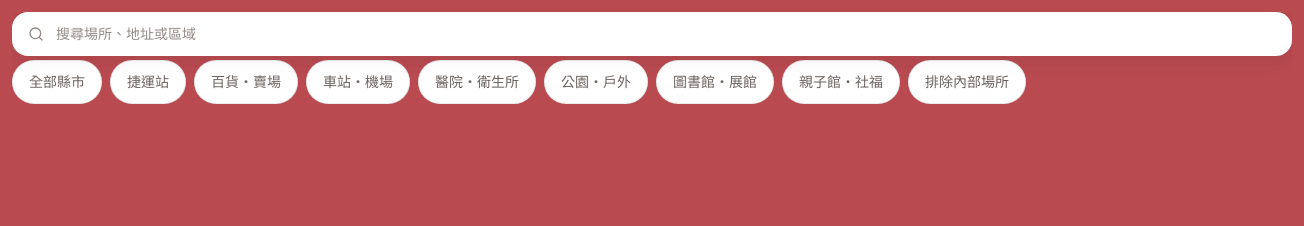
Test: RoomSearch › 真的沒有相符的才說找不到
The width and height of the screenshot is (1304, 226).
Expected: the text "找不到符合的哺乳室" is not shown
In the search field named "搜尋哺乳室": [652, 34] box top-left (12, 12), bottom-right (1292, 56), type "南極"
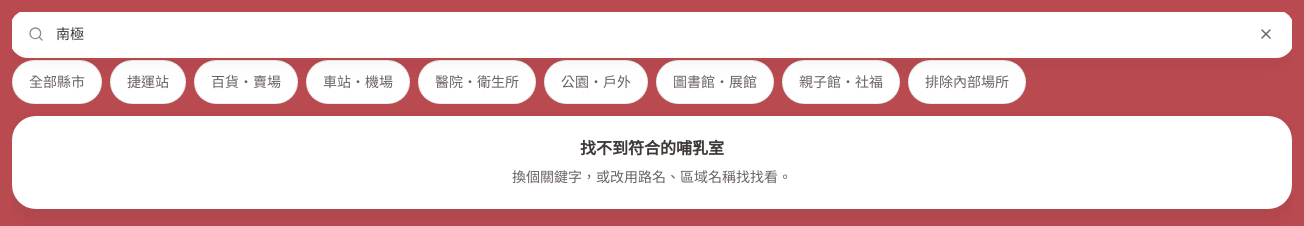
Expected: the heading "找不到符合的哺乳室" is shown, top-left (580, 138), bottom-right (724, 158)
